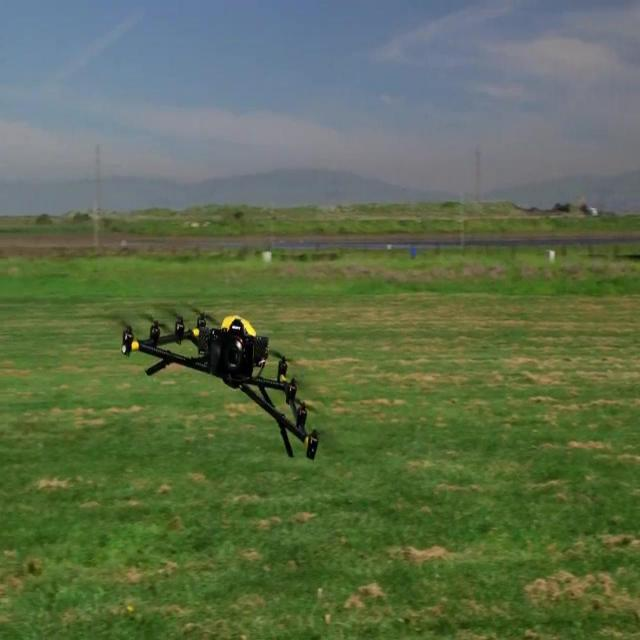UAV: (108, 304, 336, 460)
